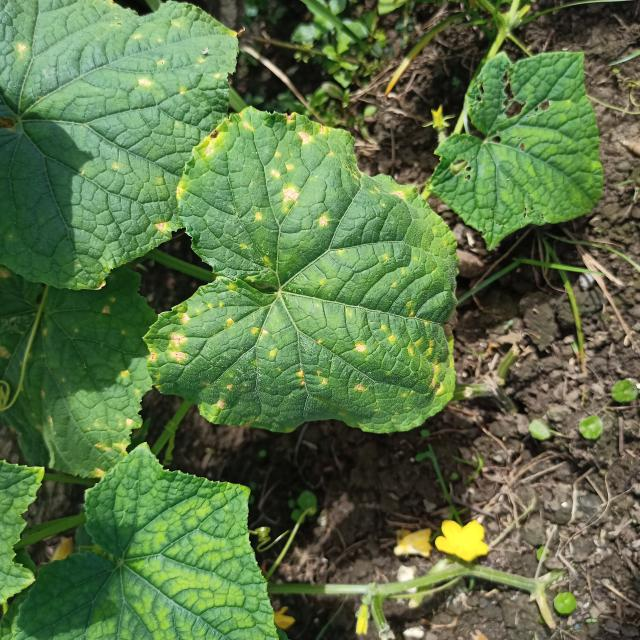disease_cucumber: (160, 113, 457, 427), (0, 285, 144, 465), (114, 17, 223, 98)
